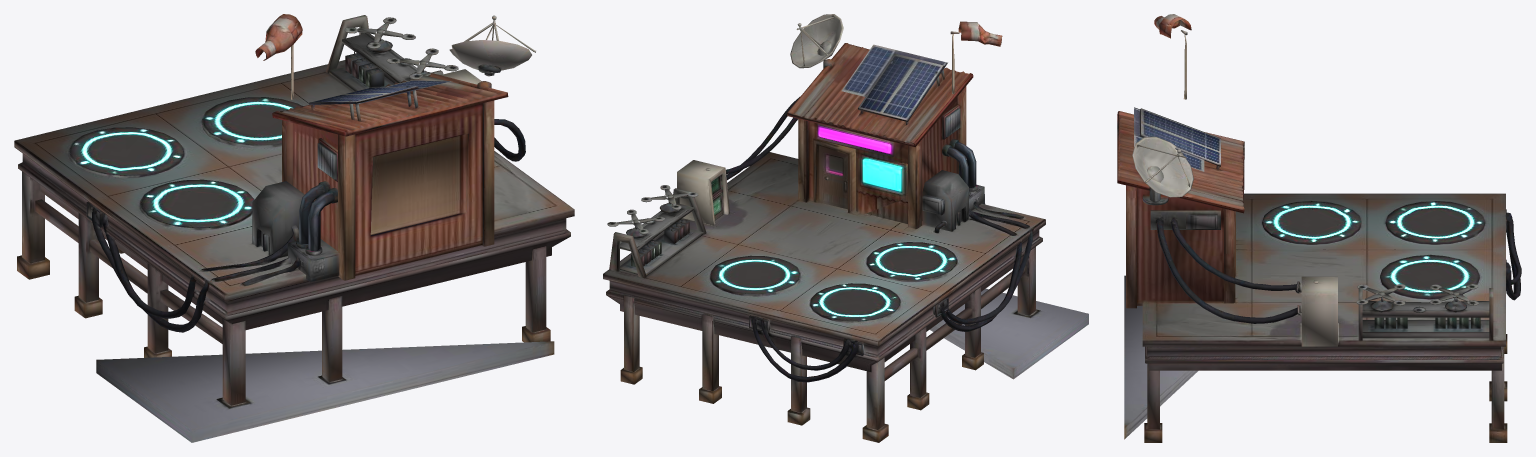
File: drone_hub.glb
3 views of the same model, side by side, from view 1: azimuth 30°, elevation 25°; view 2: azimuth 150°, elevation 25°; view 3: azimuth 270°, elevation 25° (orthographic). The views are drawn at different scales.
Parts seen in each view (by area): view 1: Body, Glow; view 2: Body, Glow; view 3: Body, Glow.
Boxes of the visible parts, x1,y1,x2,y2 form: Body: [14, 14, 574, 442]; Glow: [76, 100, 295, 226]; Body: [603, 14, 1088, 442]; Glow: [716, 124, 957, 319]; Body: [1117, 14, 1521, 442]; Glow: [1262, 201, 1484, 293].
Size of the model in its own units: 12 by 10.54 by 12.
Materials: 2 (2 with a texture image).
